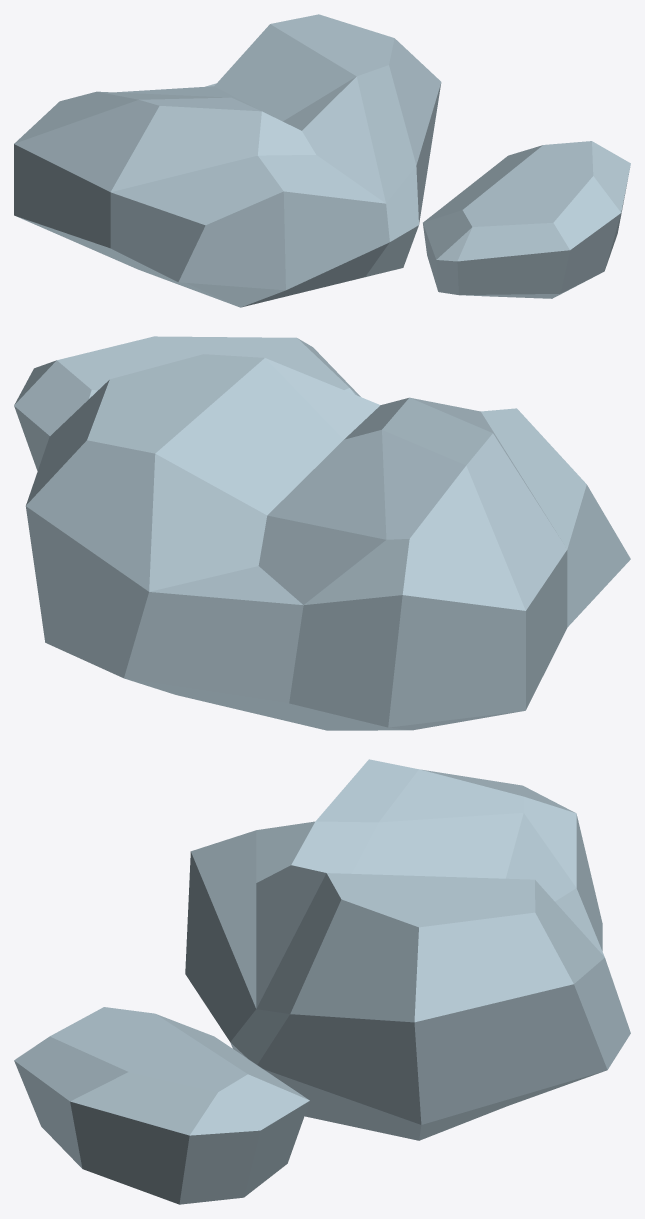
File: rocher_3.fbx
3 views of the same model, one above another, from view 1: azimuth 30°, elevation 25°; view 2: azimuth 150°, elevation 25°; view 3: azimuth 270°, elevation 25° (orthographic). The views are drawn at different scales.
Visible parts, largest first — view 1: pCube47, pCube48; view 2: pCube47, pCube48; view 3: pCube47, pCube48.
Boxes of the visible parts, <box> form: pCube47: <box>14,14,441,307</box>; pCube48: <box>423,141,630,298</box>; pCube47: <box>25,354,630,730</box>; pCube48: <box>14,336,360,470</box>; pCube47: <box>185,759,630,1140</box>; pCube48: <box>14,1007,309,1204</box>.
Bounding box in the file's own units: 2.17 × 0.7622 × 1.9.
